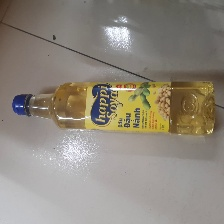Happy Soya: (9, 78, 219, 137)
